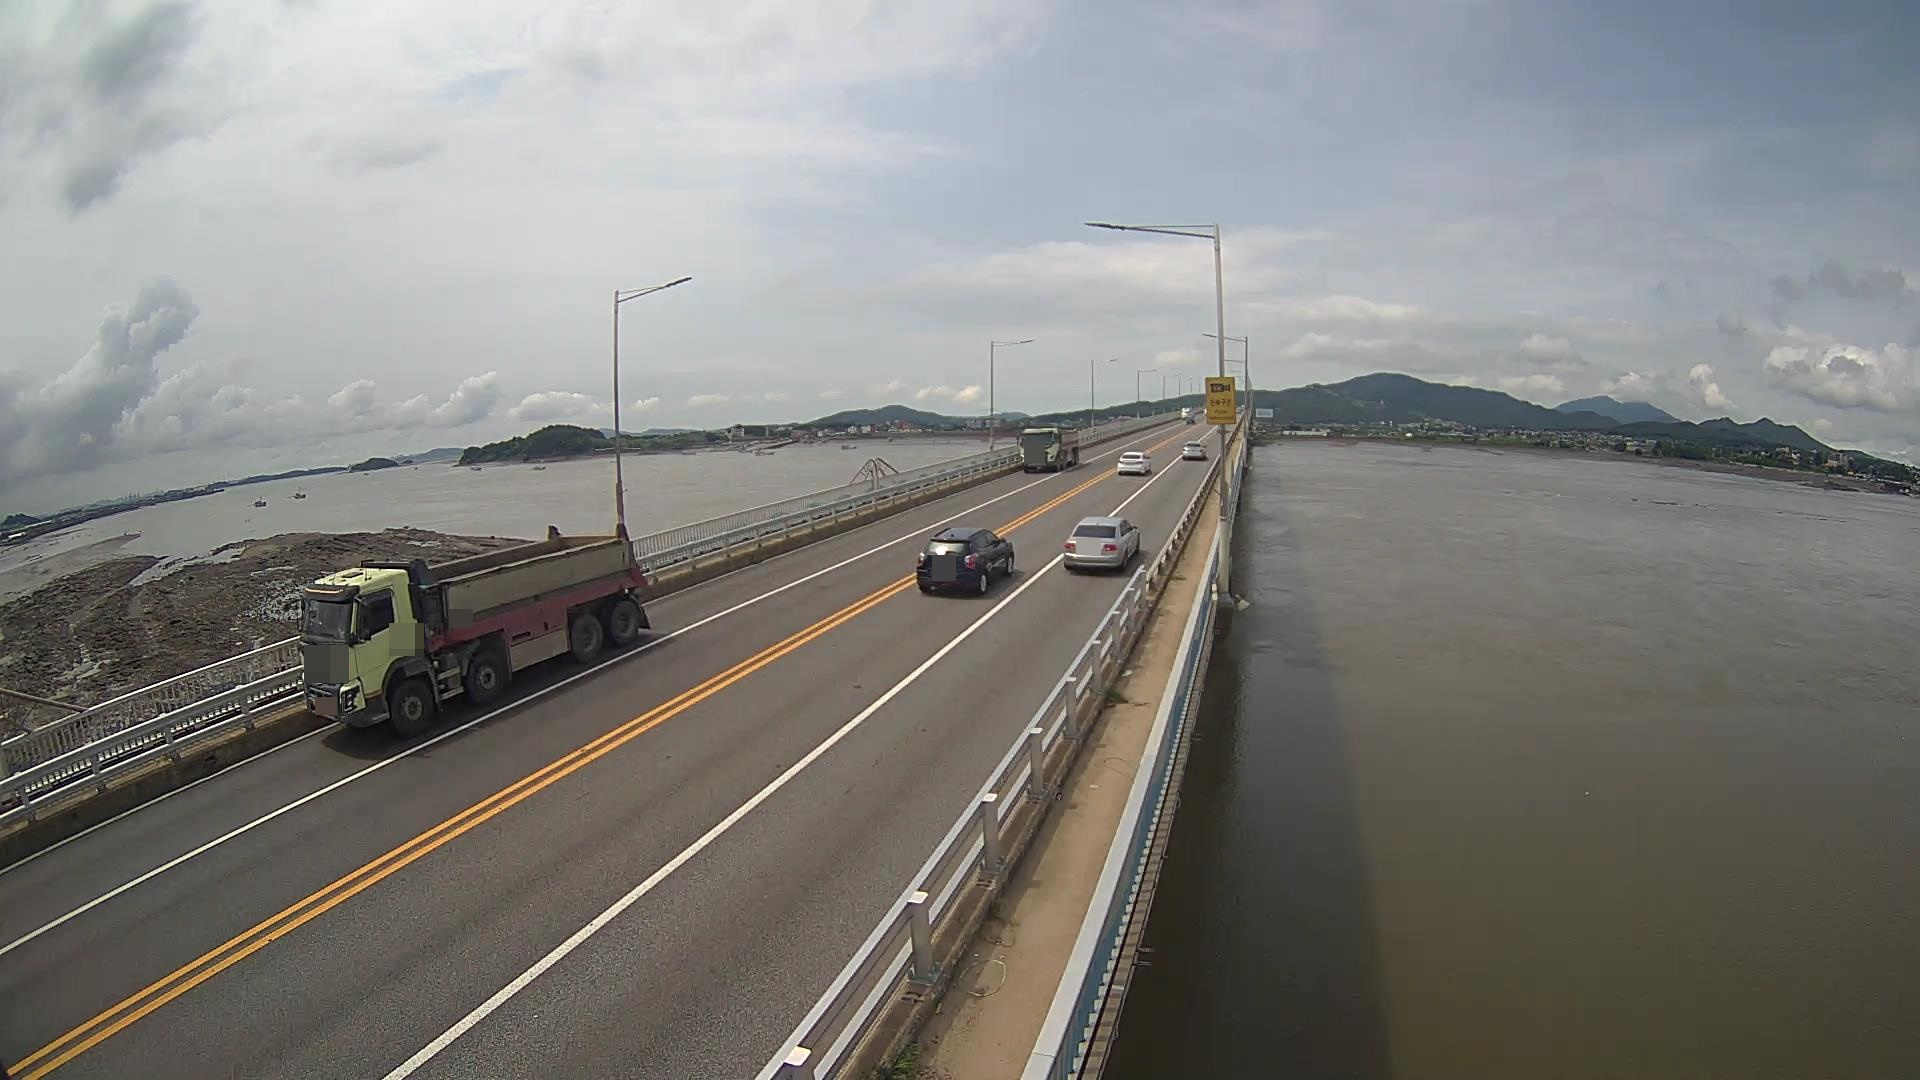정상차량: (284, 524, 650, 736)
